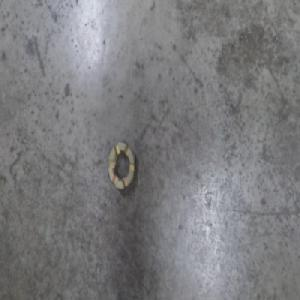Nut: (106, 138, 136, 192)
